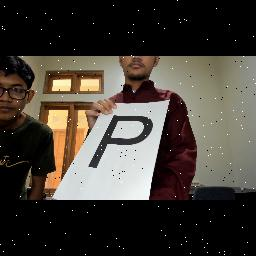p: (88, 110, 156, 178)
